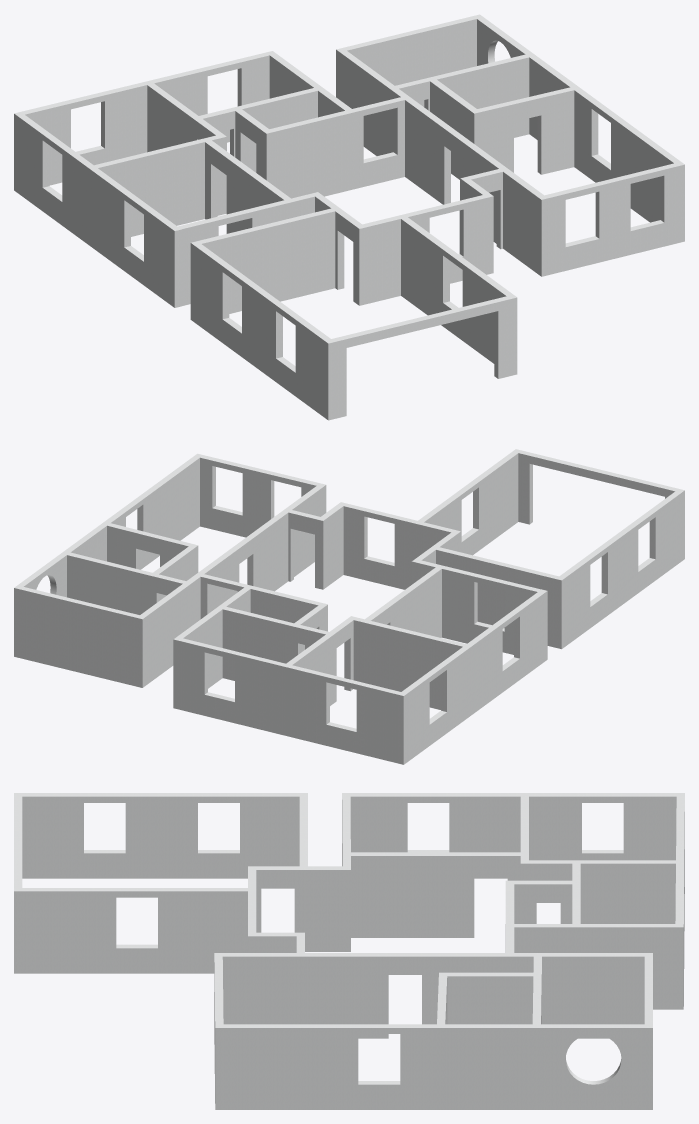
Rendered from game-house-walls.fbx.
The picture shows the model from 3 angles, top to bottom: view 1: azimuth 30°, elevation 25°; view 2: azimuth 150°, elevation 25°; view 3: azimuth 270°, elevation 25°; orthographic projection. The views are drawn at different scales.
Visible parts, largest first — view 1: FbxMesh (×45); view 2: FbxMesh (×41); view 3: FbxMesh (×33).
Boxes of the visible parts, box(x1,y1,x2,y2) form: FbxMesh (×45): box(14, 14, 684, 420); FbxMesh (×41): box(14, 449, 684, 764); FbxMesh (×33): box(14, 793, 684, 1109).
Size of the model in its own units: 628 by 102 by 758.
Materials: 1 (1 with a texture image).
